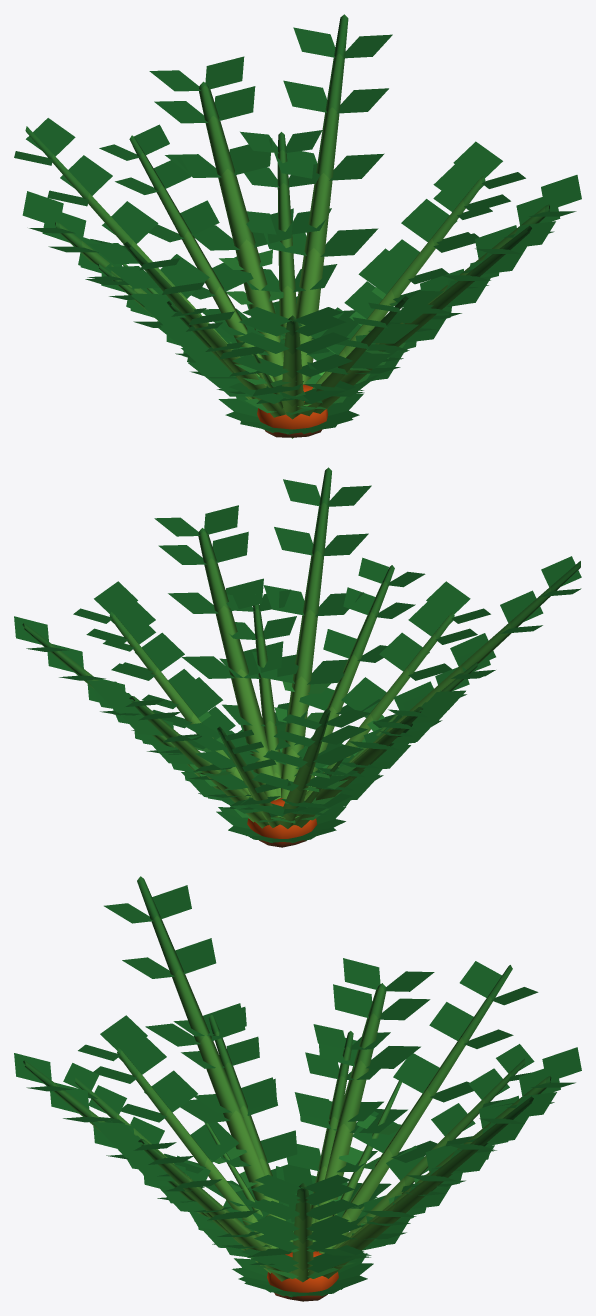
Rendered from crop_carrot.glb.
3 views of the same model, one above another, from view 1: azimuth 30°, elevation 25°; view 2: azimuth 150°, elevation 25°; view 3: azimuth 270°, elevation 25° (orthographic). The views are drawn at different scales.
Parts seen in each view (by area): view 1: stage_04_harvest_ready, stage_03_maturing, stage_02_growing; view 2: stage_04_harvest_ready, stage_03_maturing, stage_02_growing; view 3: stage_04_harvest_ready, stage_03_maturing, stage_02_growing.
Part boxes in pixels (x1,y1,x2,y2): stage_04_harvest_ready: (14,14,581,438); stage_03_maturing: (80,124,499,416); stage_02_growing: (122,249,405,415); stage_04_harvest_ready: (14,467,581,847); stage_03_maturing: (94,557,490,827); stage_02_growing: (189,681,398,825); stage_04_harvest_ready: (14,876,581,1301); stage_03_maturing: (63,1007,534,1272); stage_02_growing: (204,1080,425,1278).
Size of the model in its own units: 0.6839 by 0.4334 by 0.7234.
